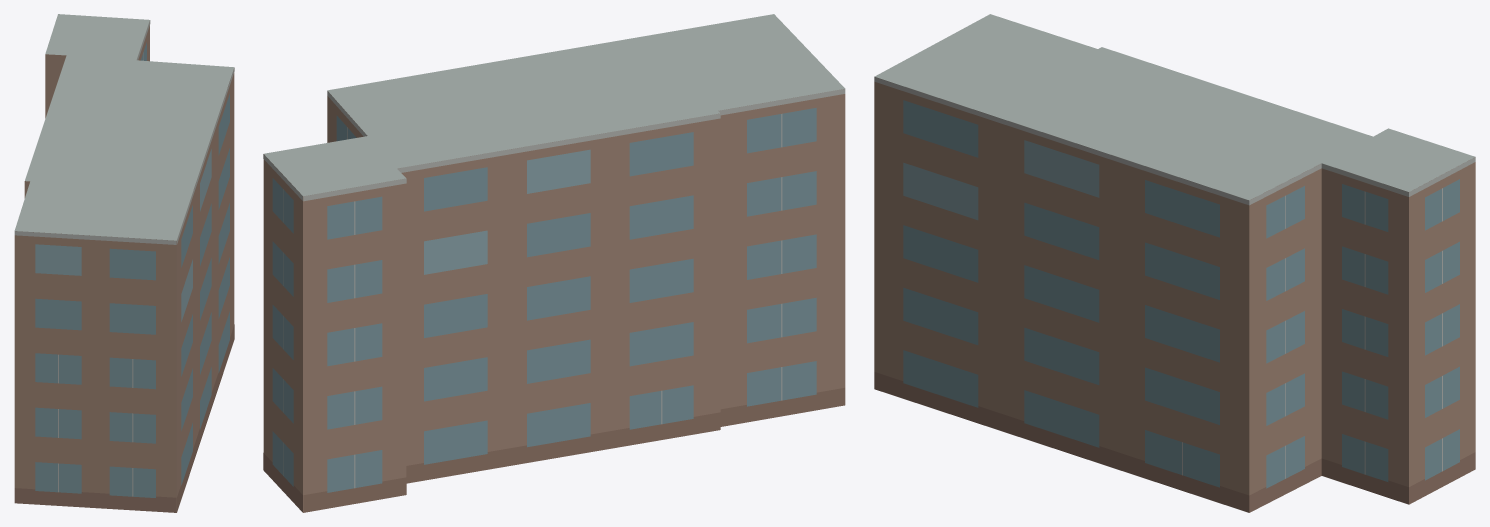
File: survey-upis-32871192.glb
3 renders of one model, left to right at view 1: azimuth 30°, elevation 25°; view 2: azimuth 150°, elevation 25°; view 3: azimuth 270°, elevation 25°, orthographic. The views are drawn at different scales.
Parts seen in each view (by area): view 1: survey-upis-32871192.tmp; view 2: survey-upis-32871192.tmp; view 3: survey-upis-32871192.tmp.
Boxes of the visible parts, box(x1,y1,x2,y2) form: survey-upis-32871192.tmp: box(14, 14, 234, 512); survey-upis-32871192.tmp: box(263, 14, 845, 512); survey-upis-32871192.tmp: box(874, 14, 1475, 512).
Size of the model in its own units: 19.51 by 15.25 by 26.6.
